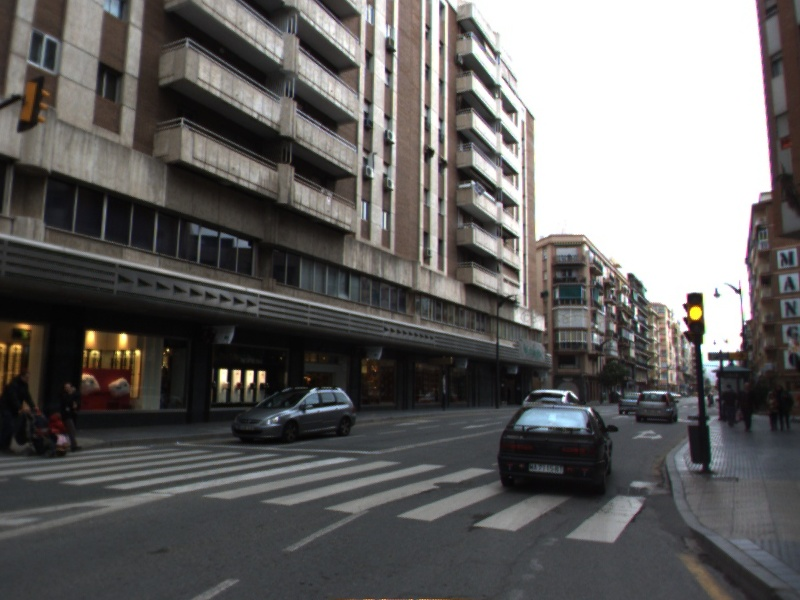STRAIGHT_RIGHT: (629, 427, 664, 442)
